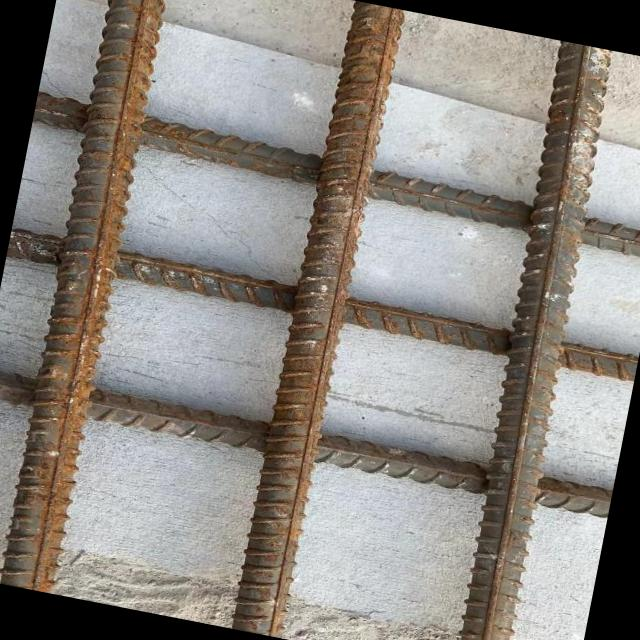ribbed bar: (434, 40, 627, 640), (228, 0, 406, 638), (29, 91, 640, 263), (0, 0, 176, 593), (5, 228, 639, 384), (0, 367, 612, 522)
